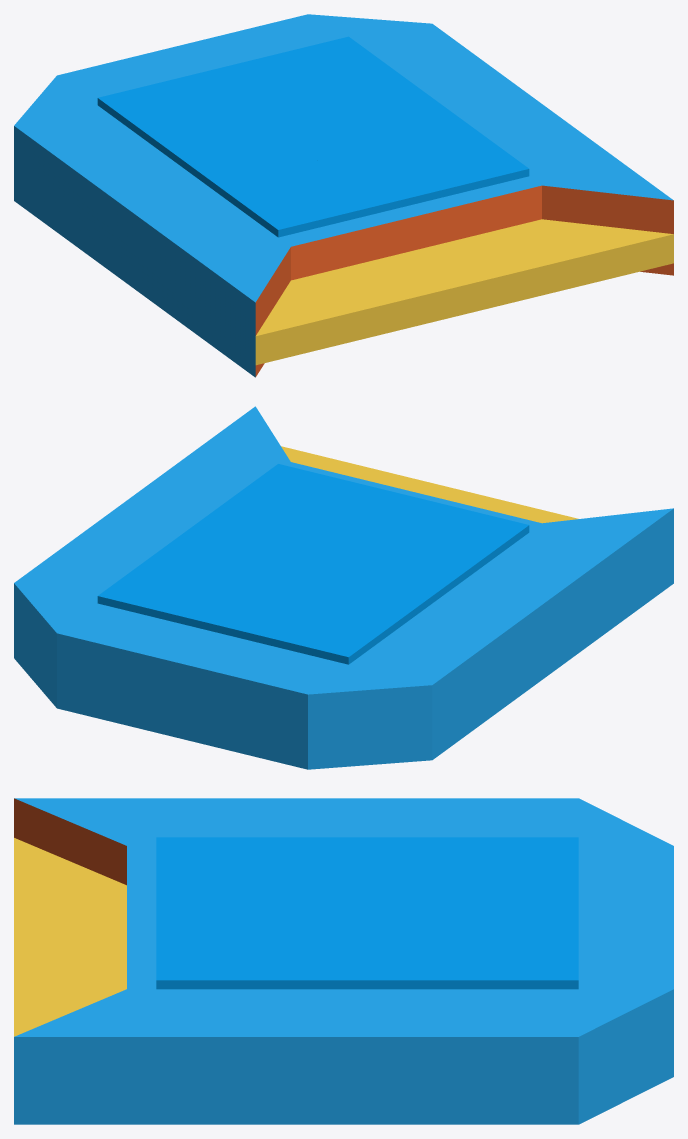
Rendered from Upgrade_Water_02.fbx.
The picture shows the model from 3 angles, top to bottom: view 1: azimuth 30°, elevation 25°; view 2: azimuth 150°, elevation 25°; view 3: azimuth 270°, elevation 25°; orthographic projection. The views are drawn at different scales.
Visible parts, largest first — view 1: Cube.001; view 2: Cube.001; view 3: Cube.001.
Boxes of the visible parts, <box> form: Cube.001: <box>14,14,673,377</box>; Cube.001: <box>14,406,673,769</box>; Cube.001: <box>14,798,673,1124</box>.
Size of the model in its own units: 86.17 by 17.74 by 101.
